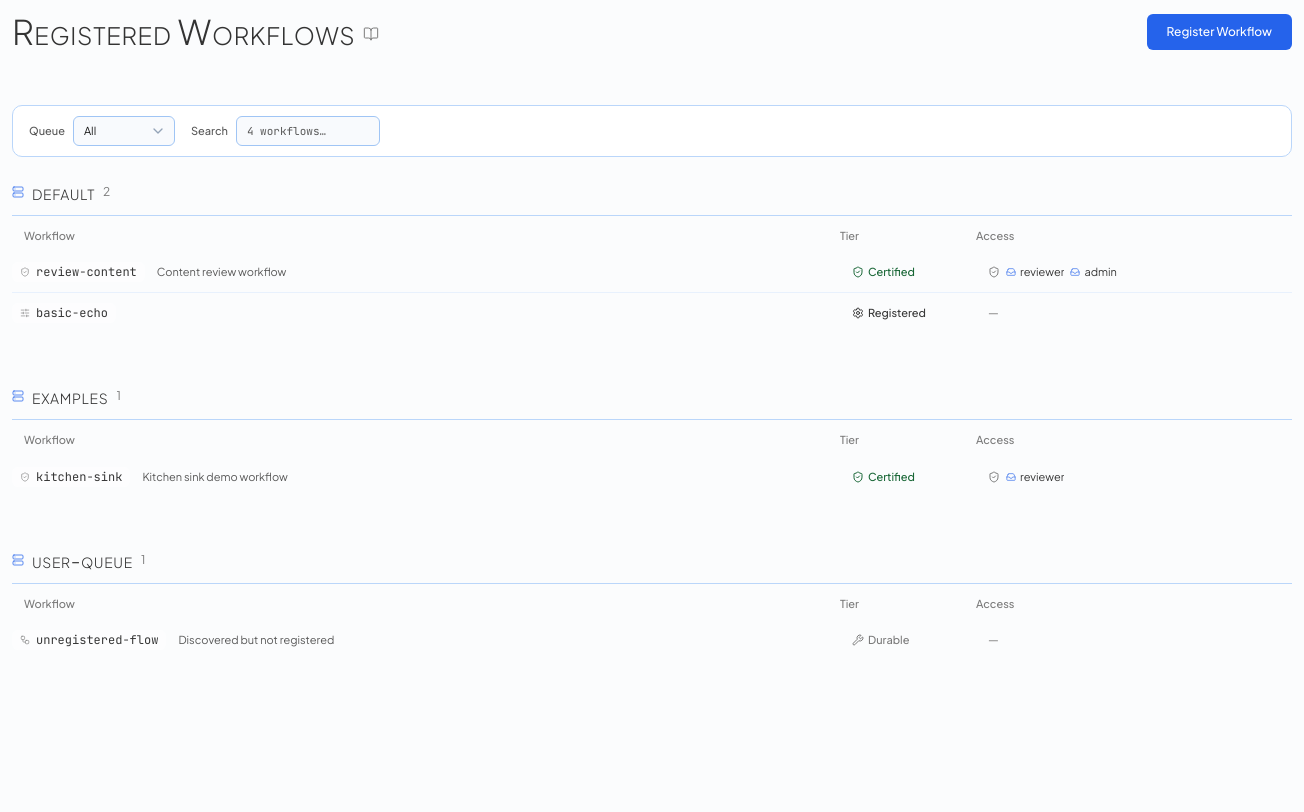
WorkflowConfigsPage › filters by queue
Select "examples" in the dropdown at (124, 131), box [73, 116, 175, 146]
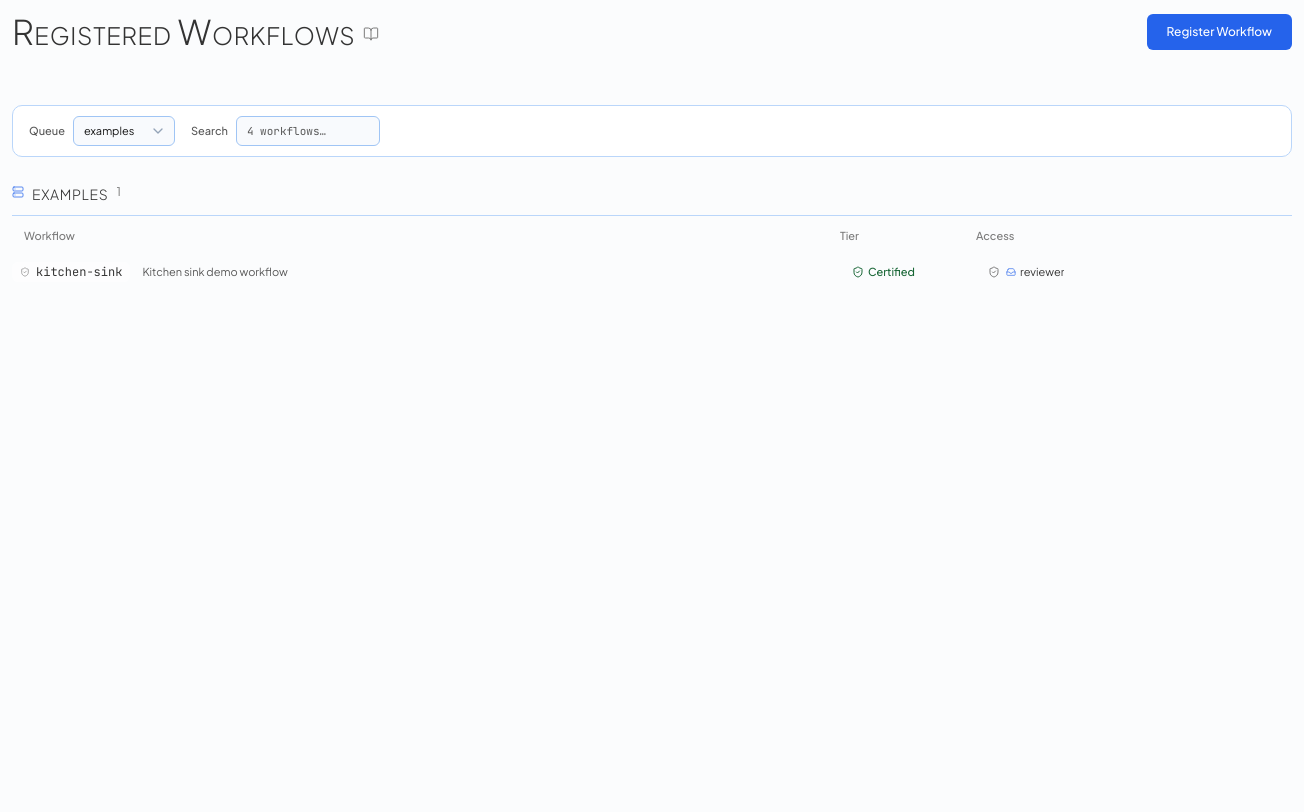
Check: the text "kitchen-sink" is shown, box [36, 264, 122, 280]
Check: the button "review-content" is gone
Check: the button "basic-echo" is gone
